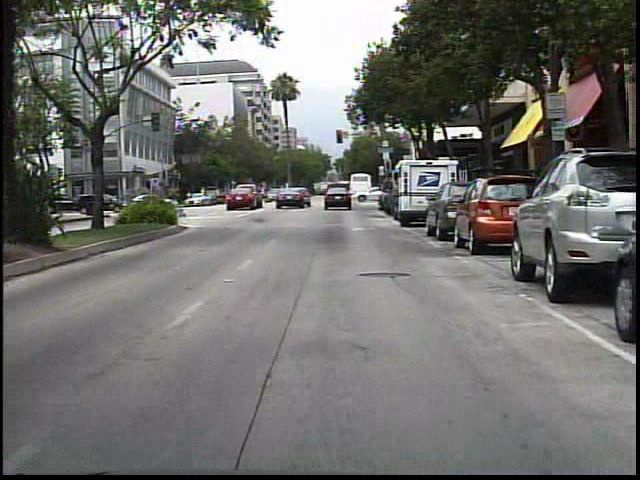person: (274, 182, 288, 206)
